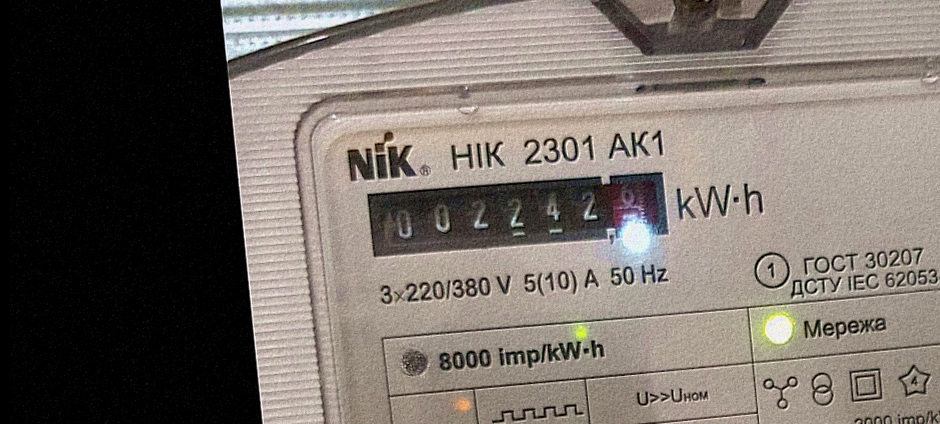0: (394, 206, 417, 241), (432, 200, 454, 235)
2: (506, 194, 527, 229), (470, 197, 492, 230), (581, 189, 600, 222)
4: (545, 189, 563, 223)
6: (620, 179, 638, 208)
screen: (357, 153, 682, 274)
